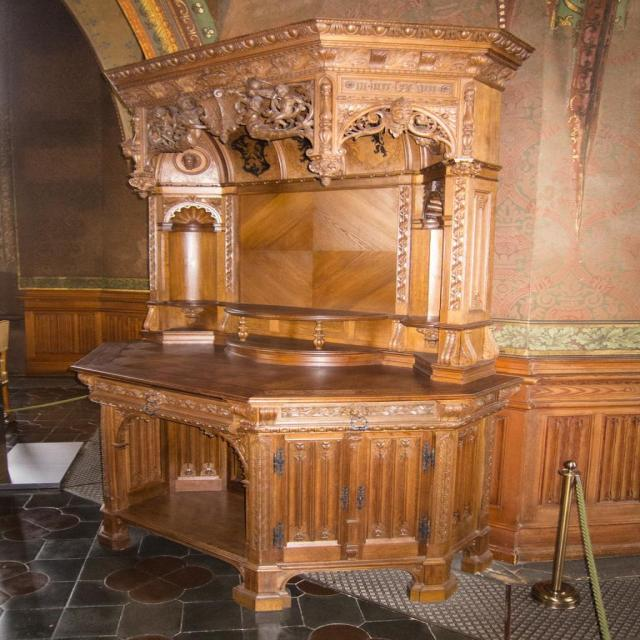Table: (87, 147, 568, 584)
